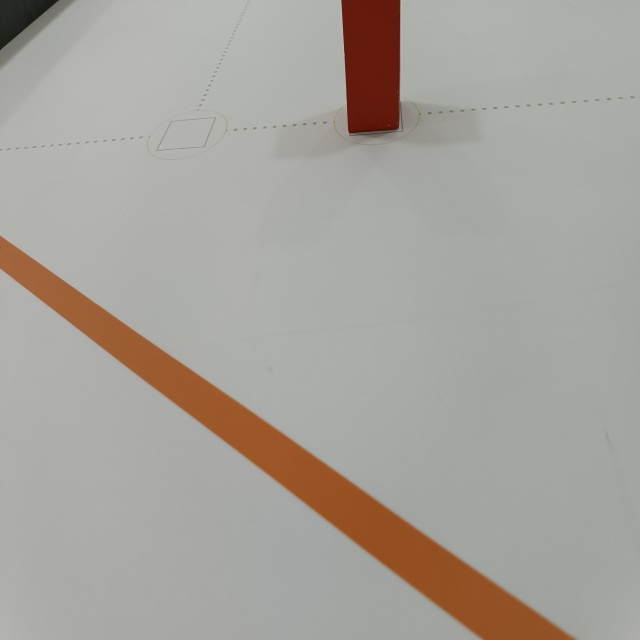orange line: (0, 227, 583, 640)
red rectangular prism: (339, 0, 403, 137)
